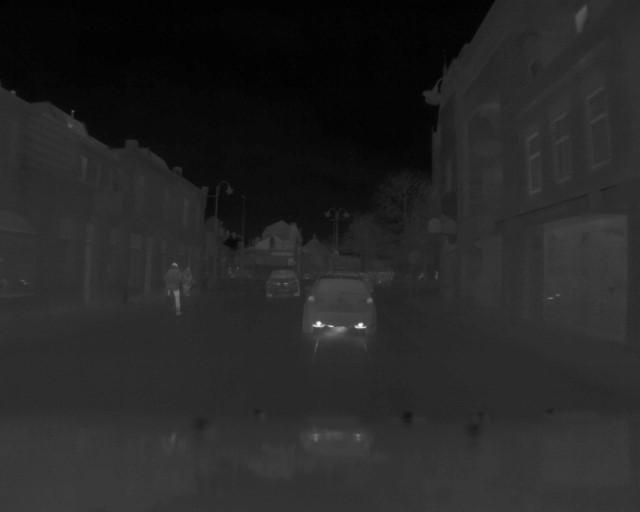car: (302, 274, 381, 338), (262, 267, 301, 300)
person: (164, 259, 185, 321)
